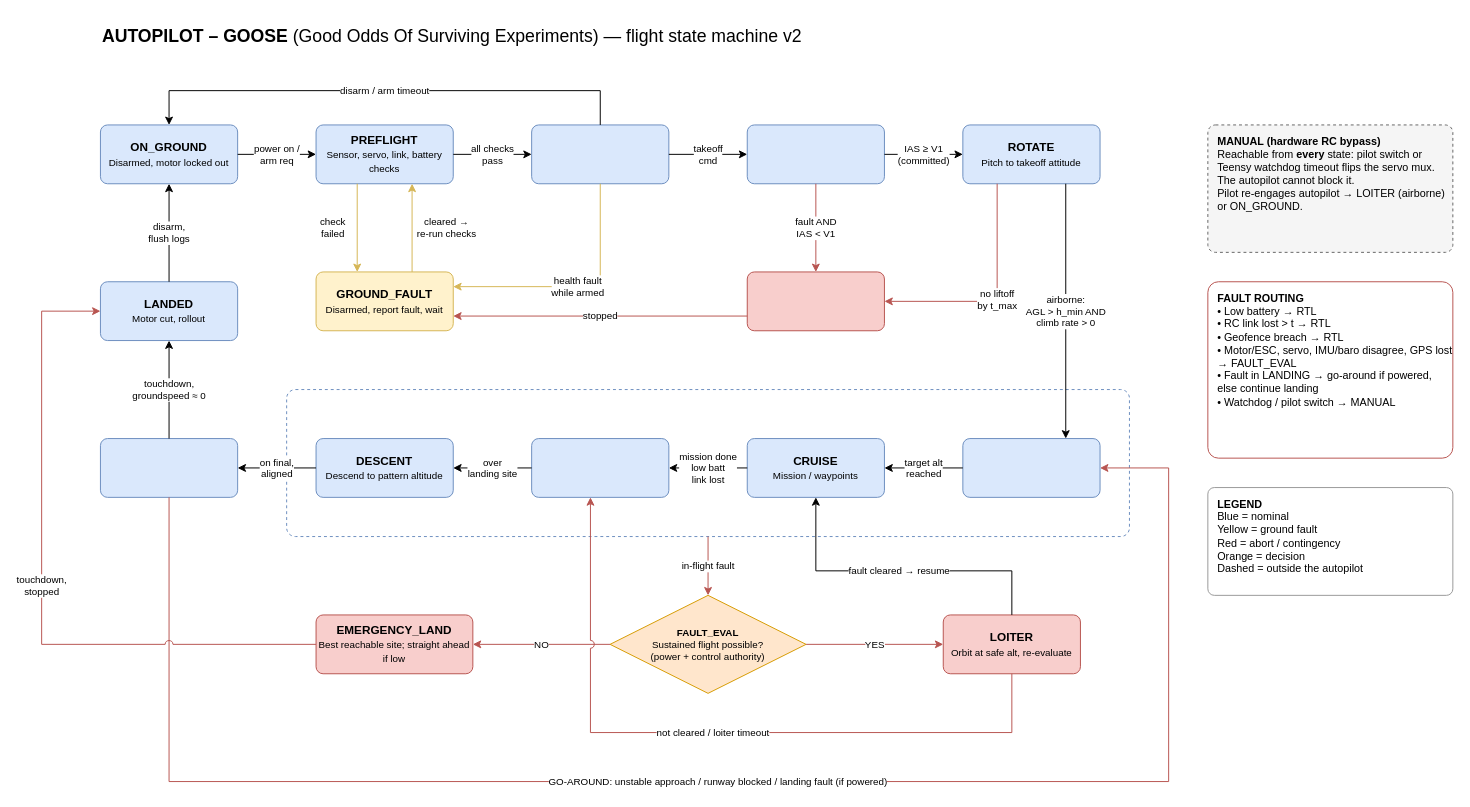
Some shapes in this 1470 by 807 pixel diagram are drawn without their labels. The box of each missing label's shape, as (x1, y1, x2, y2) in pixels:
AIRBORNE — any fault in here → FAULT_EVAL (see routing table): (286, 389, 1129, 537)
CLIMB Full power, pitch for Vy, flaps up: (962, 438, 1100, 497)
LANDING Final, flare, touchdown: (99, 438, 238, 497)
READY Armed, holding, monitoring health: (531, 124, 669, 184)
REJECTED_TAKEOFF Cut motor, wings level, roll out: (746, 271, 884, 331)
RTL Navigate to landing site: (531, 438, 669, 497)
TAKEOFF_ROLL Full throttle, track centerline, T/O flaps: (746, 124, 884, 184)
